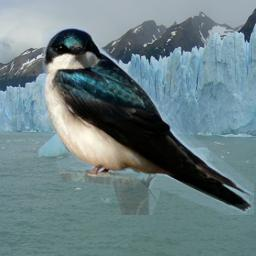Swallow: (42, 26, 254, 215)
